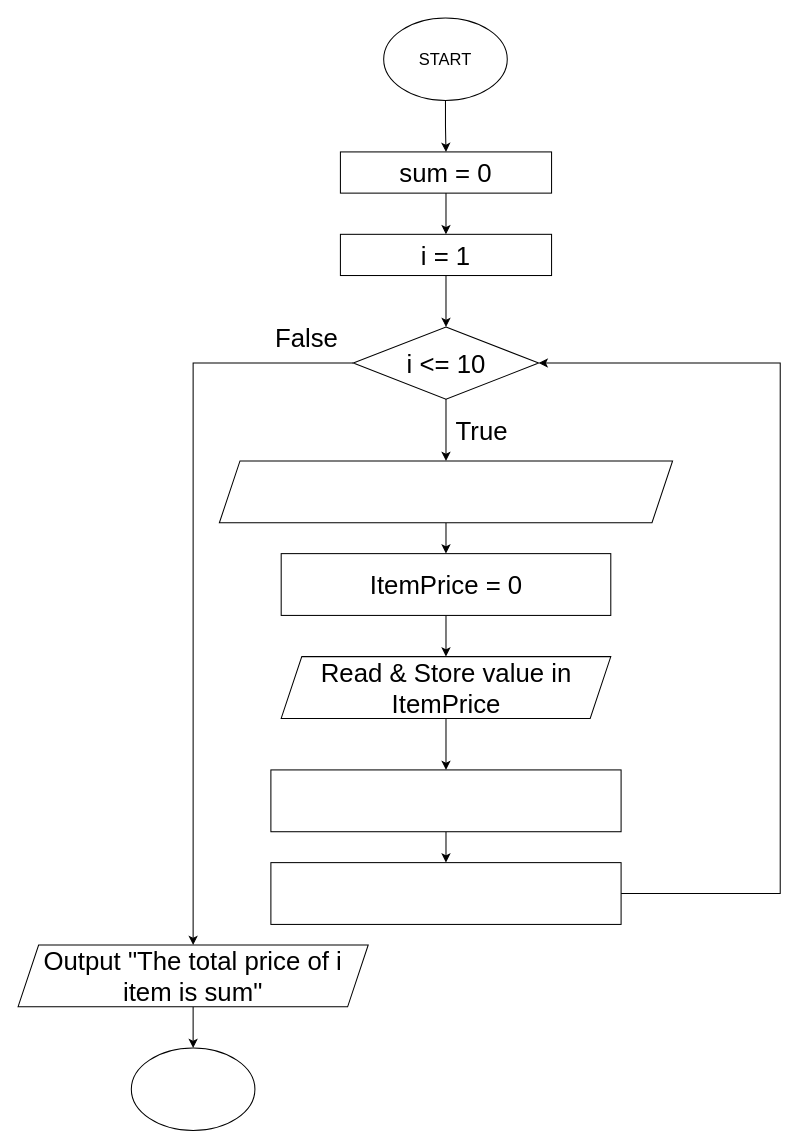
This 806x1148 diagram has some shape labels left out. The centre of each missing label's shape, as x and y in pixels:
END: point (192, 1088)
i++: point (445, 893)
Prompt "Please insert price for item i": point (445, 491)
sum = sum + ItemPrice: point (445, 800)
